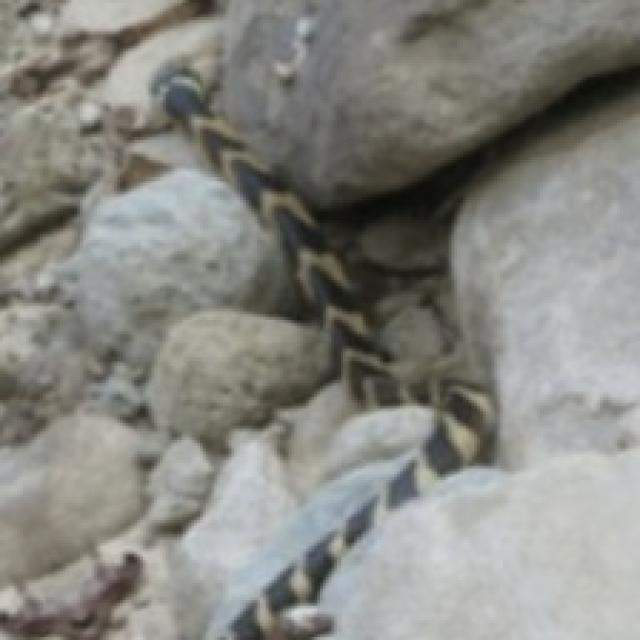king cobra: (146, 71, 517, 634)
